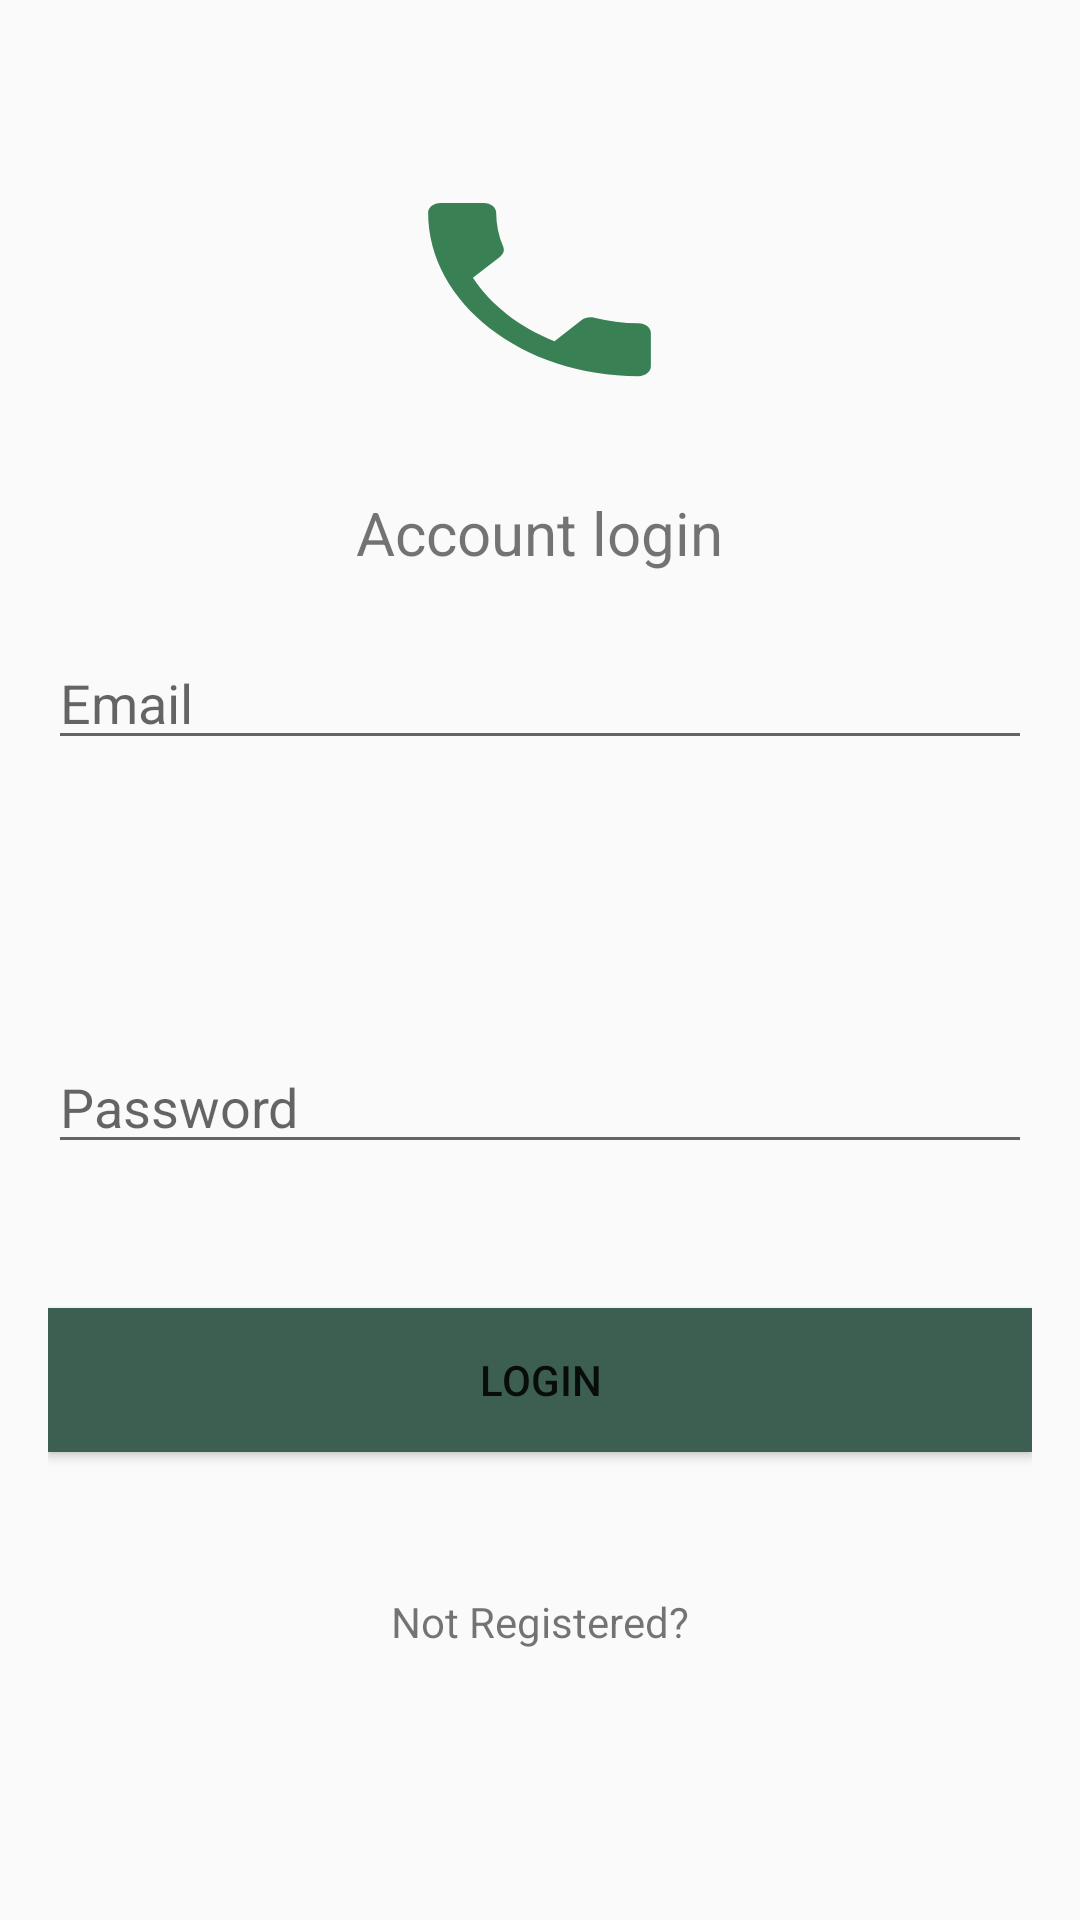

Icons on this 1080*1920 Android screen, each with its box as detection(x1, y1, x2, y2):
phone: detection(428, 203, 651, 377)
